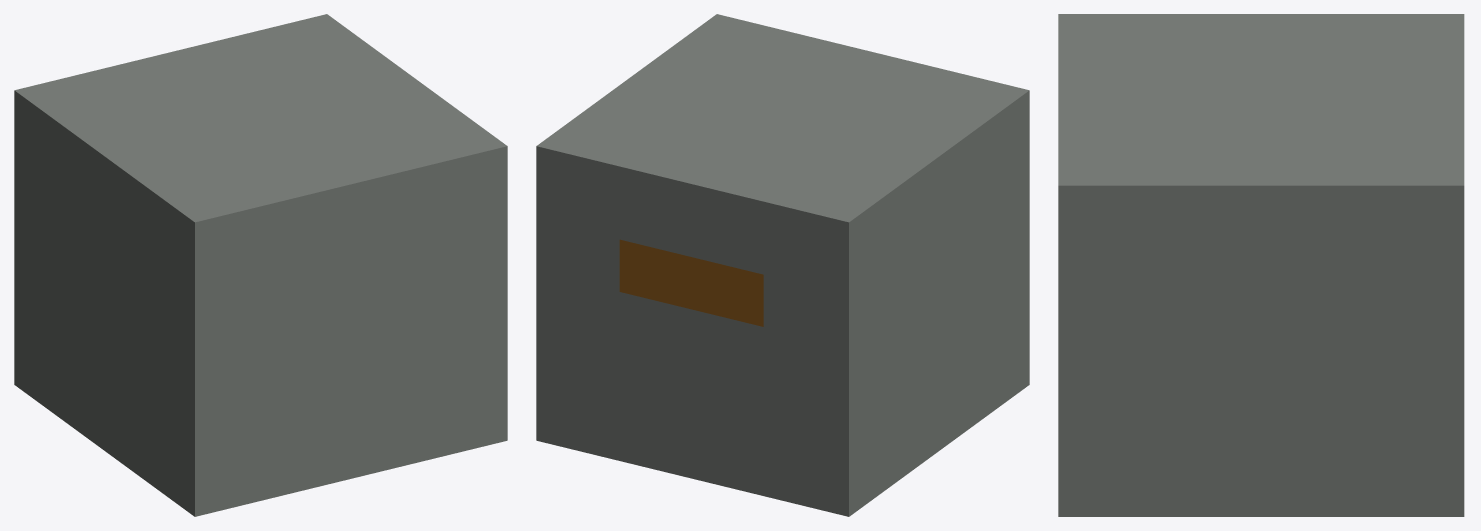
The model's file is exhibit_plinth.obj.
The picture shows the model from 3 angles, left to right: view 1: azimuth 30°, elevation 25°; view 2: azimuth 150°, elevation 25°; view 3: azimuth 270°, elevation 25°; orthographic projection. The views are drawn at different scales.
Parts seen in each view (by area): view 1: base; view 2: base, blank_caption; view 3: base.
Part boxes in pixels (<box>): base: <box>14,14,507,516</box>; base: <box>536,14,1029,516</box>; blank_caption: <box>619,239,763,326</box>; base: <box>1058,14,1464,516</box>.
Size of the model in its own units: 1 by 0.9 by 1.01.
